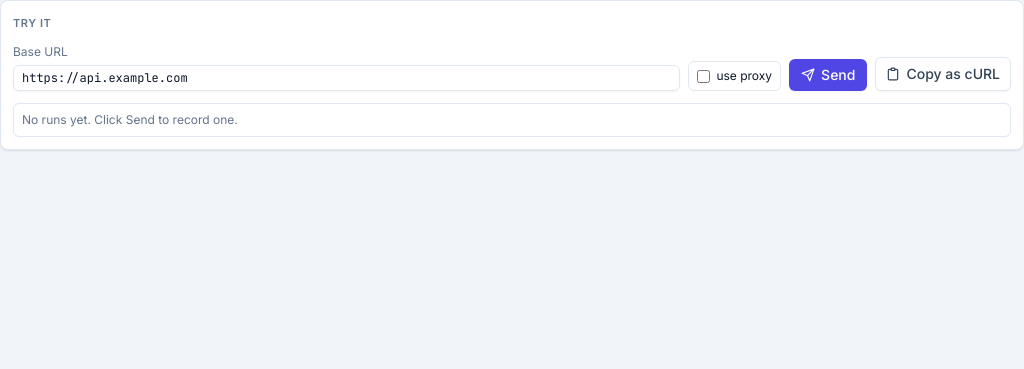
non-secret capture: updates spec variable value and renders green row
Click the button "Send" at (828, 75), box [789,59,867,91]
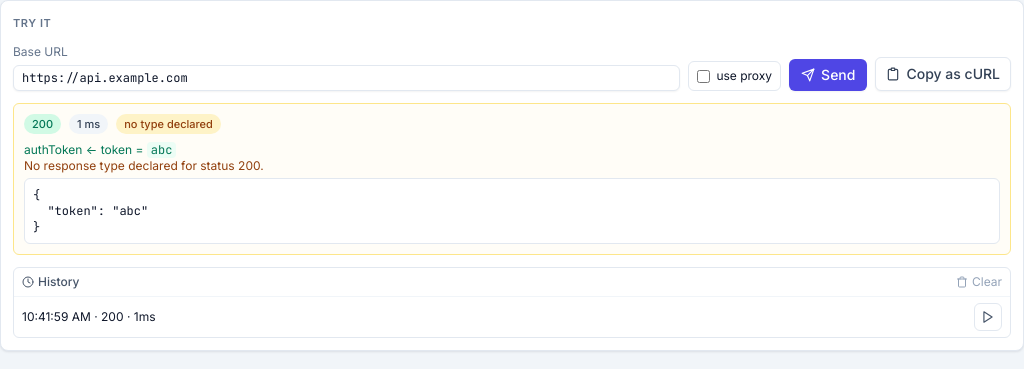
expect the text "authToken ← token = abc" is shown: met, box [24,142,176,157]
